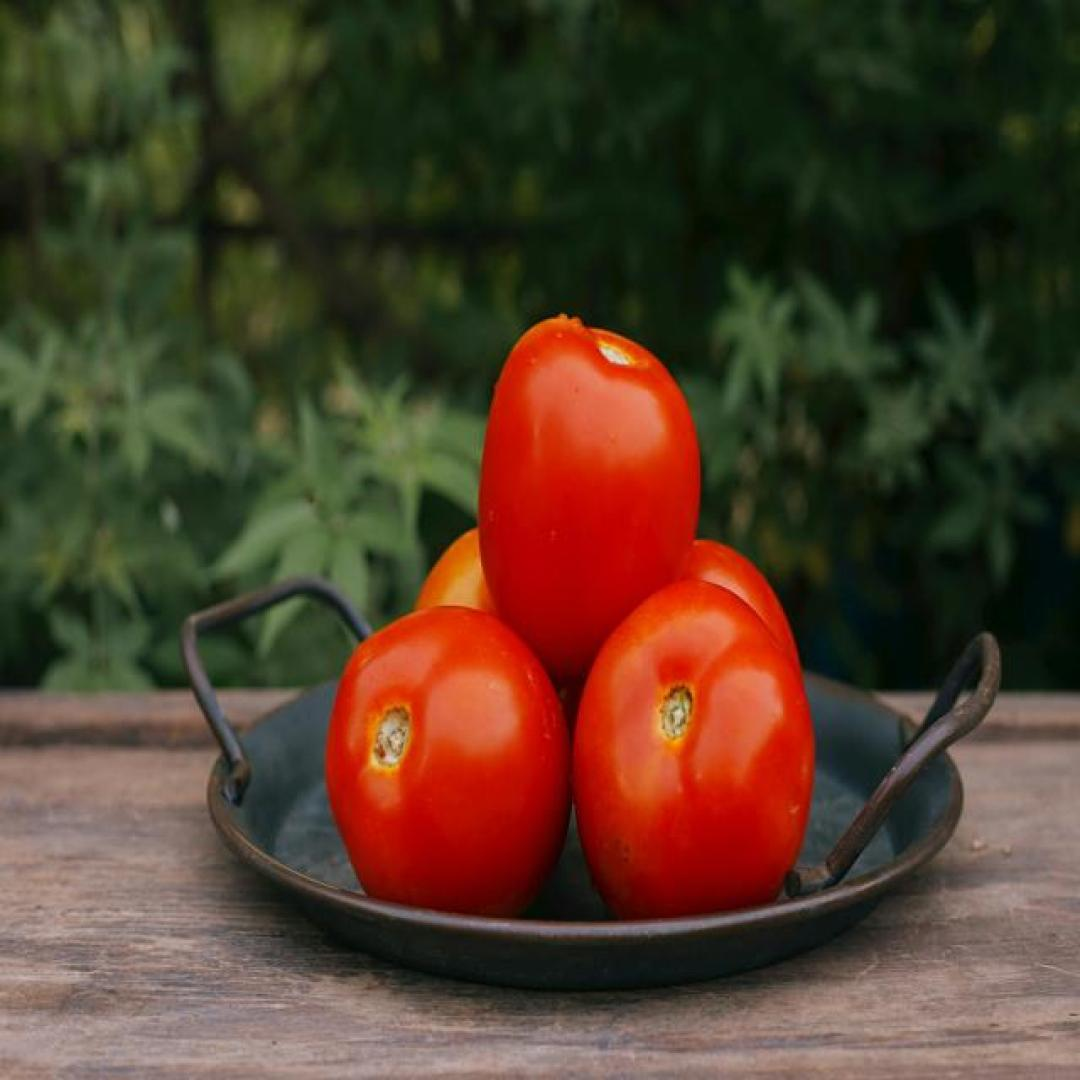matang: (569, 577, 813, 945), (476, 319, 704, 687), (326, 608, 574, 926)
